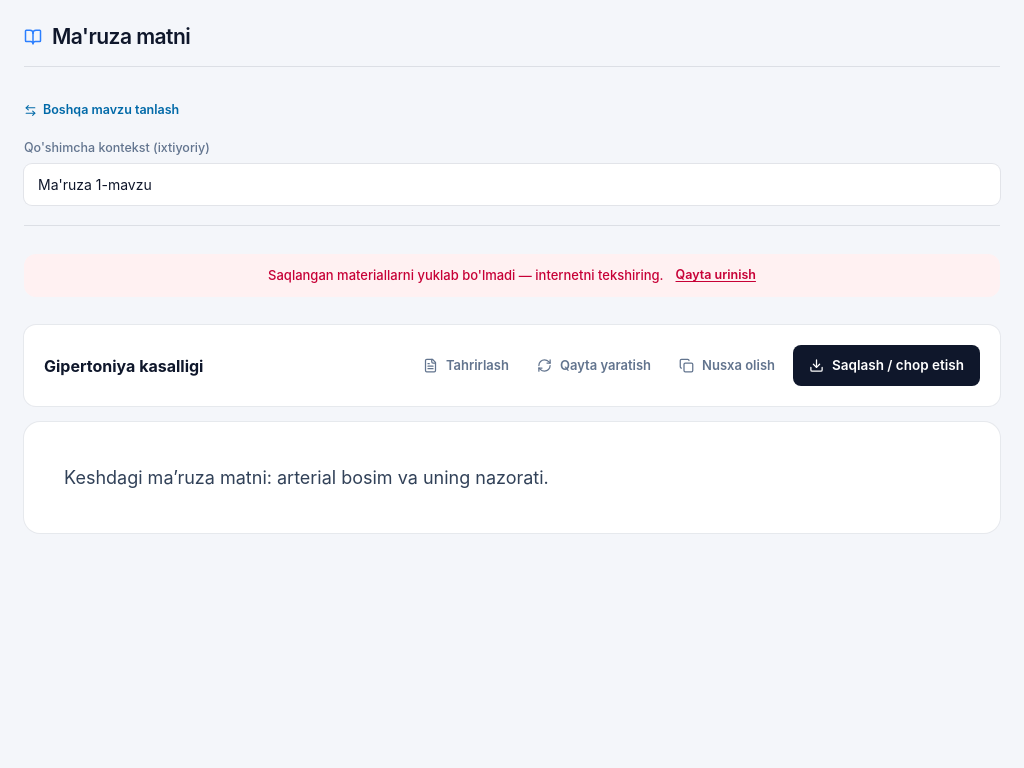
Scenario: LectureNotes — Baza xatolari › ro‘yxat yuklanmasa: kesh ekranda qoladi, o‘chirilmaydi, xato va "Qayta urinish" chiqadi
This screenshot has width=1024, height=768.
Check: the text "Saqlangan materiallarni yuklab bo'lmadi" is shown, box [268,267,664,283]
Check: the text "Keshdagi ma’ruza matni: arterial bosim va uning nazorati." is shown, box [64,467,549,488]
Click the button "Qayta urinish" at (716, 276), box [676,266,756,285]
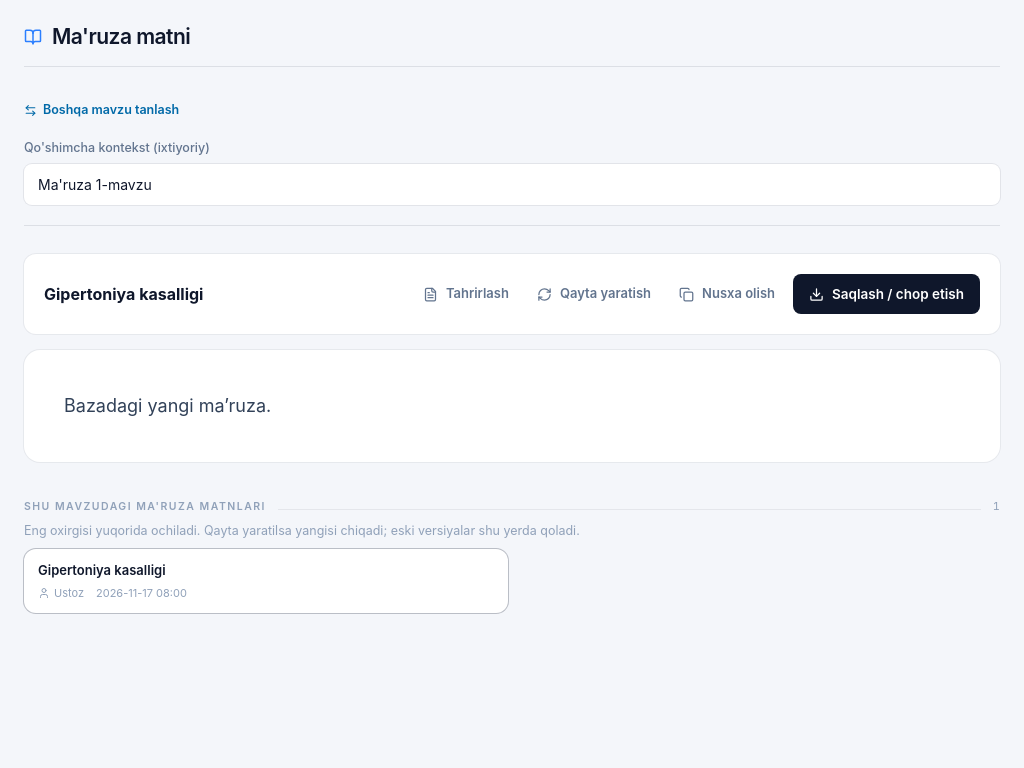
Check: the text "Bazadagi yangi ma’ruza." is shown, box [64,395,271,416]
Check: the text "Saqlangan materiallarni yuklab bo'lmadi" is gone
